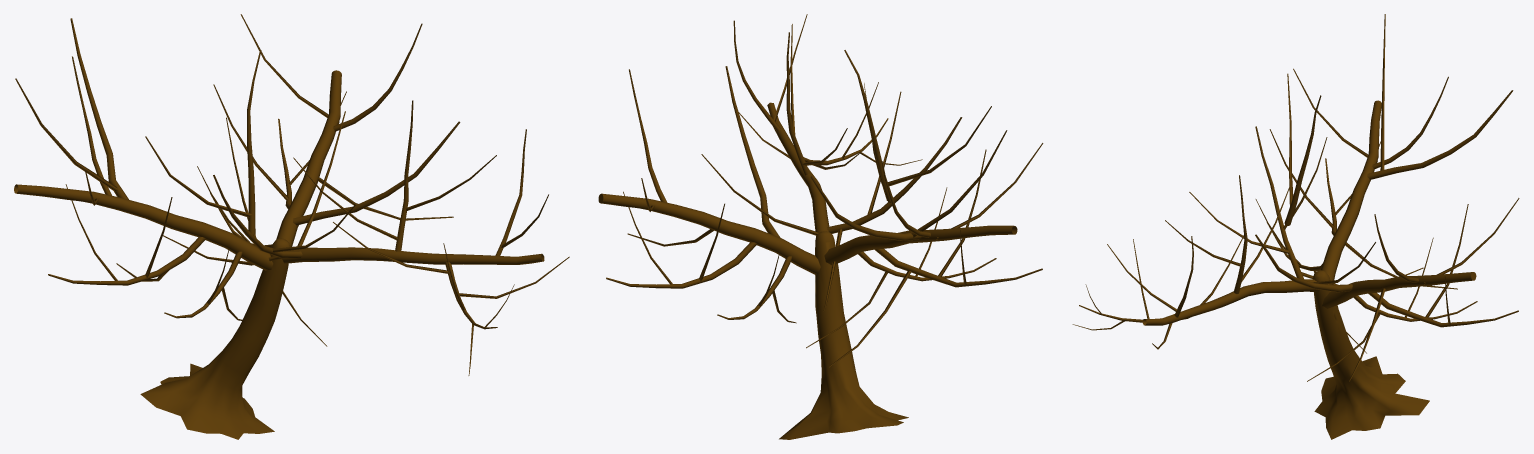
File: arbre.fbx
3 views of the same model, side by side, from view 1: azimuth 30°, elevation 25°; view 2: azimuth 150°, elevation 25°; view 3: azimuth 270°, elevation 25° (orthographic). The views are drawn at different scales.
Visible parts, largest first — view 1: Foliage001; view 2: Foliage001; view 3: Foliage001.
Part boxes in pixels (box(x1,y1,x2,y2)): Foliage001: box(14, 14, 569, 439); Foliage001: box(598, 14, 1043, 439); Foliage001: box(1072, 14, 1519, 439).
Size of the model in its own units: 613 by 543 by 655.
